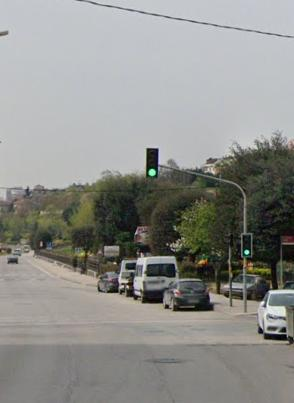greenlight: (145, 147, 159, 179), (240, 233, 253, 258)
